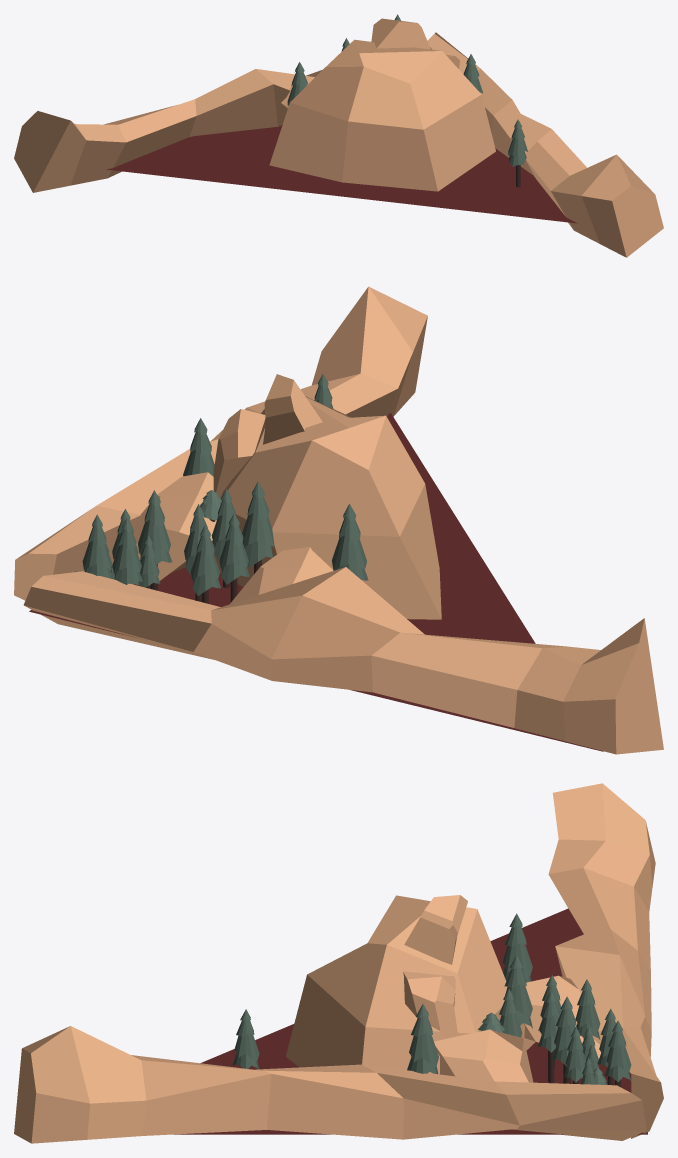
File: Mountain_Full.fbx
3 views of the same model, one above another, from view 1: azimuth 30°, elevation 25°; view 2: azimuth 150°, elevation 25°; view 3: azimuth 270°, elevation 25° (orthographic). The views are drawn at different scales.
Visible parts, largest first — view 1: Plane; view 2: Plane; view 3: Plane.
Part boxes in pixels (bbox=[...]): Plane: bbox=[14, 14, 663, 257]; Plane: bbox=[14, 286, 663, 754]; Plane: bbox=[14, 783, 663, 1143].
Bounding box in the file's own units: 6836 × 2226 × 6687.
